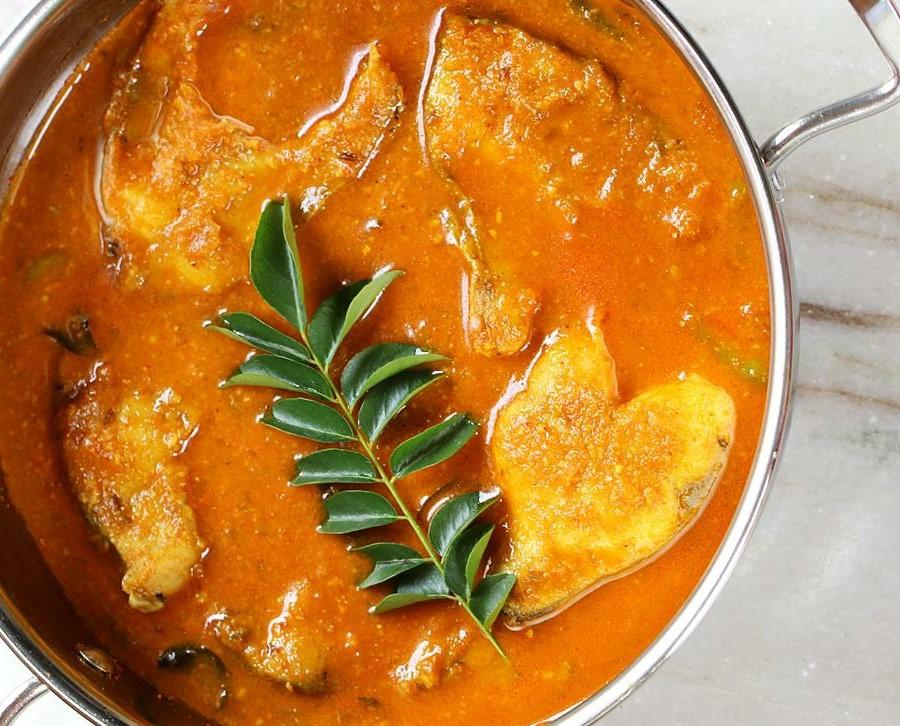FishCurry: (0, 0, 776, 726)
